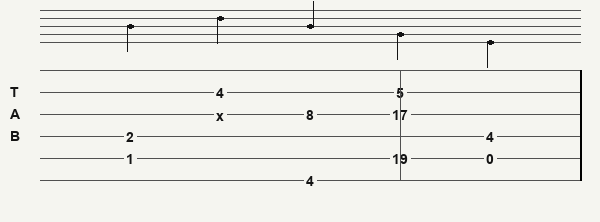0: (486, 151, 498, 165)
1: (126, 151, 138, 165)
17: (392, 107, 412, 121)
19: (392, 151, 412, 165)
2: (126, 129, 138, 143)
4: (216, 85, 228, 99), (306, 173, 318, 187), (486, 129, 498, 143)
5: (396, 85, 408, 99)
8: (306, 107, 318, 121)
x: (216, 108, 228, 120)
